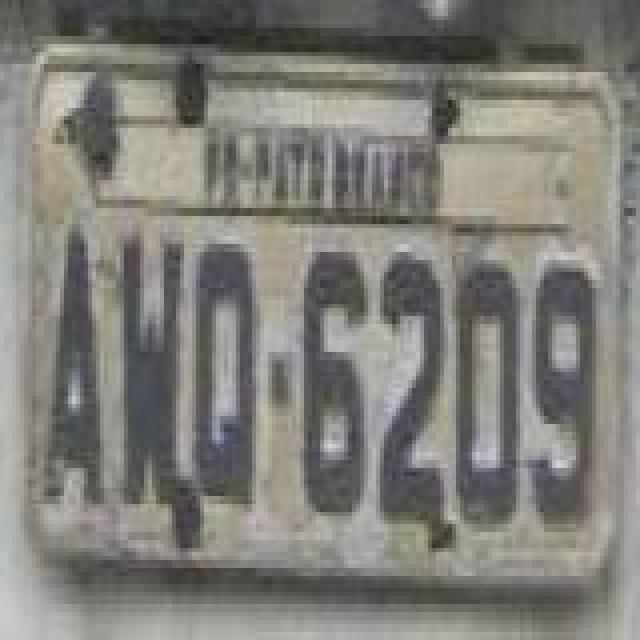2: (372, 248, 444, 528)
6: (302, 248, 370, 520)
9: (524, 256, 596, 520)
A: (40, 224, 104, 512)
O: (454, 252, 522, 524)
Q: (190, 236, 258, 516)
W: (116, 228, 188, 508)
